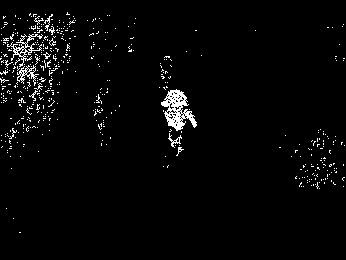person: (159, 87, 200, 160)
